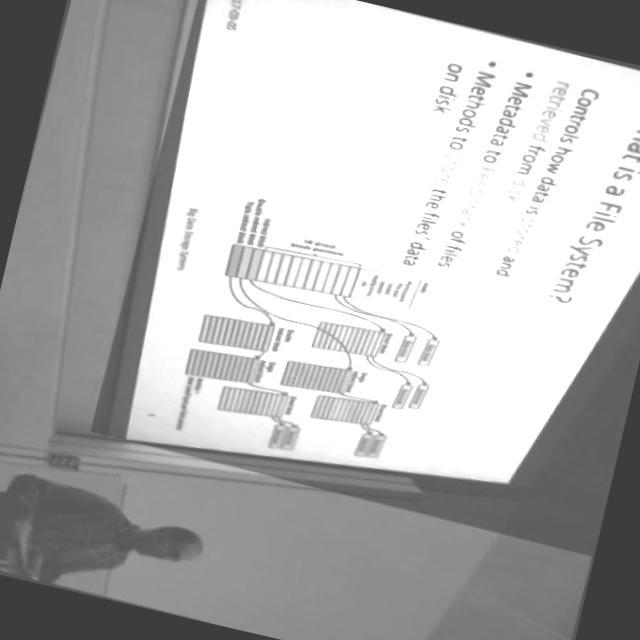Instructor: (0, 455, 240, 605)
Slide: (121, 0, 640, 481)
